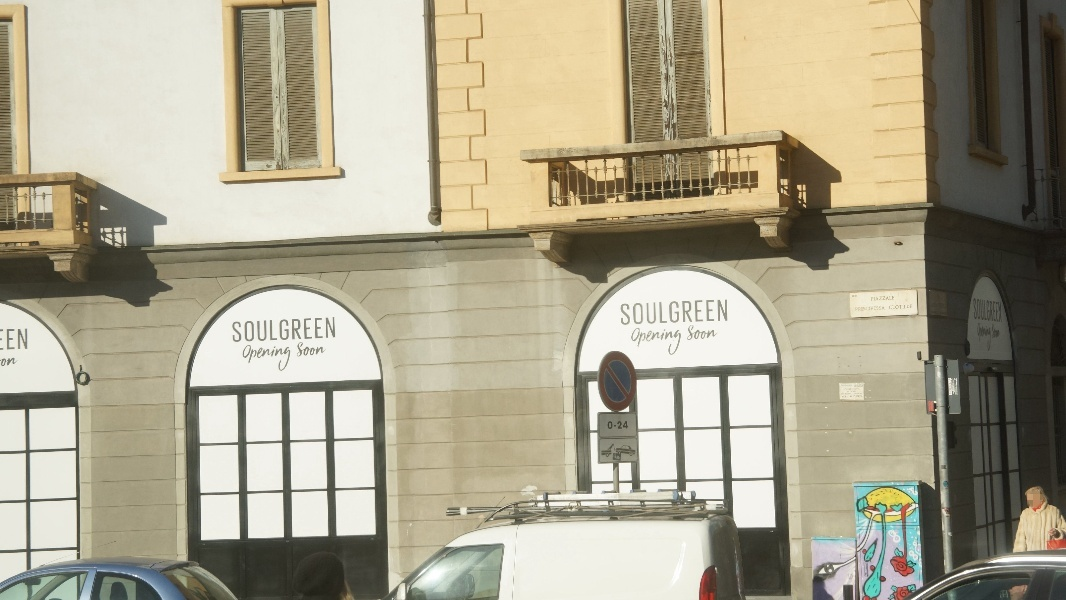text: (641, 328, 656, 357), (657, 328, 672, 357), (257, 344, 272, 372), (273, 344, 288, 372), (978, 323, 992, 352), (241, 317, 256, 343), (257, 317, 272, 343), (273, 317, 288, 343), (289, 317, 304, 343), (305, 317, 320, 343), (321, 317, 336, 343), (625, 299, 640, 325), (641, 299, 656, 325), (657, 299, 672, 325), (673, 299, 688, 325), (689, 299, 704, 325), (705, 299, 720, 325), (243, 344, 256, 372), (977, 299, 992, 323), (1, 329, 16, 352), (631, 328, 640, 357), (993, 299, 1003, 323), (689, 325, 704, 341), (673, 328, 681, 357), (17, 329, 28, 350), (305, 342, 320, 357), (993, 324, 1008, 338), (232, 317, 240, 343), (705, 325, 718, 341), (7, 329, 16, 350), (721, 299, 728, 325), (949, 379, 960, 395), (1, 357, 16, 368), (952, 378, 960, 396), (298, 342, 304, 357), (321, 342, 327, 357), (865, 306, 880, 312), (621, 299, 624, 325), (881, 296, 896, 301), (897, 305, 912, 310), (973, 299, 976, 323), (289, 344, 291, 372), (618, 421, 624, 430), (856, 306, 864, 312), (871, 296, 880, 301), (854, 383, 864, 387), (852, 295, 864, 298), (849, 388, 861, 391), (625, 421, 629, 430), (889, 305, 896, 310), (17, 357, 20, 368), (881, 306, 886, 312), (849, 396, 863, 398), (609, 422, 613, 429), (849, 393, 862, 395), (841, 384, 848, 387), (614, 425, 624, 427), (849, 391, 857, 393), (841, 393, 848, 395), (842, 396, 848, 398), (849, 384, 853, 387), (844, 388, 848, 391), (847, 391, 848, 393)
